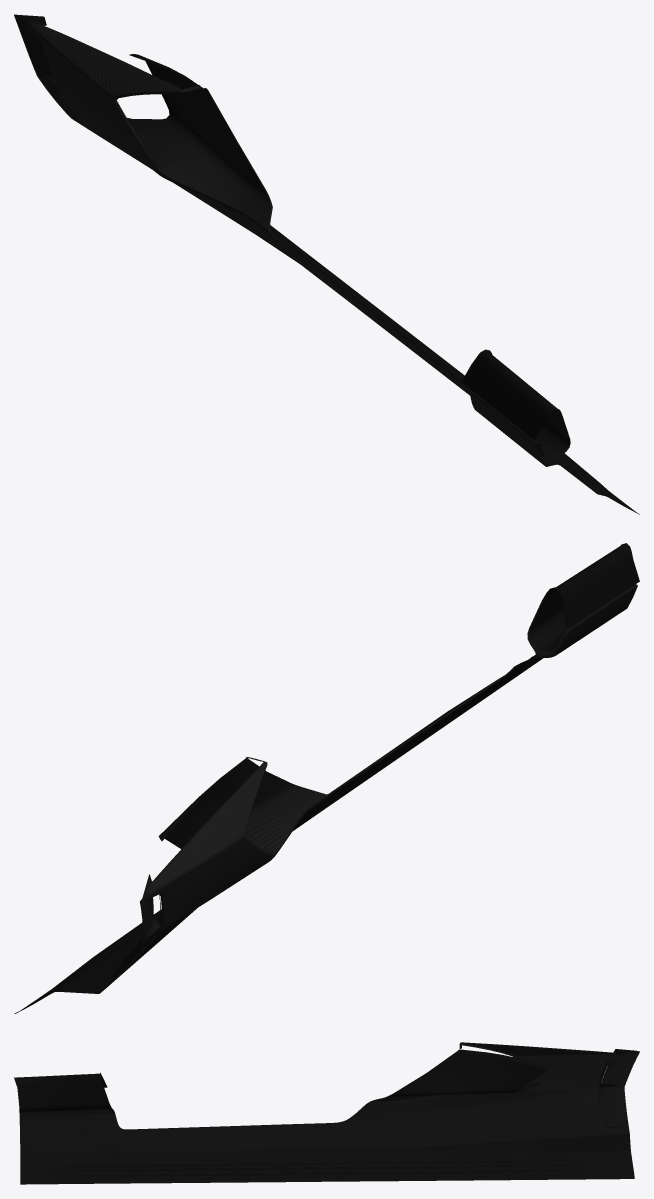
The model's file is sideskirt_r.glb.
3 renders of one model, top to bottom at view 1: azimuth 30°, elevation 25°; view 2: azimuth 150°, elevation 25°; view 3: azimuth 270°, elevation 25°, orthographic. The views are drawn at different scales.
Visible parts, largest first — view 1: Carbon1_Geo_lodA_Lamborghini_IVRewardRecycled_2024Carbon1_m1; view 2: Carbon1_Geo_lodA_Lamborghini_IVRewardRecycled_2024Carbon1_m1; view 3: Carbon1_Geo_lodA_Lamborghini_IVRewardRecycled_2024Carbon1_m1.
Part boxes in pixels (x1,y1,x2,y2): Carbon1_Geo_lodA_Lamborghini_IVRewardRecycled_2024Carbon1_m1: [14, 14, 639, 514]; Carbon1_Geo_lodA_Lamborghini_IVRewardRecycled_2024Carbon1_m1: [14, 543, 639, 1013]; Carbon1_Geo_lodA_Lamborghini_IVRewardRecycled_2024Carbon1_m1: [14, 1042, 639, 1184].
Size of the model in its own units: 0.00312 by 0.00419 by 0.021.
Materials: 1 (1 with a texture image).
